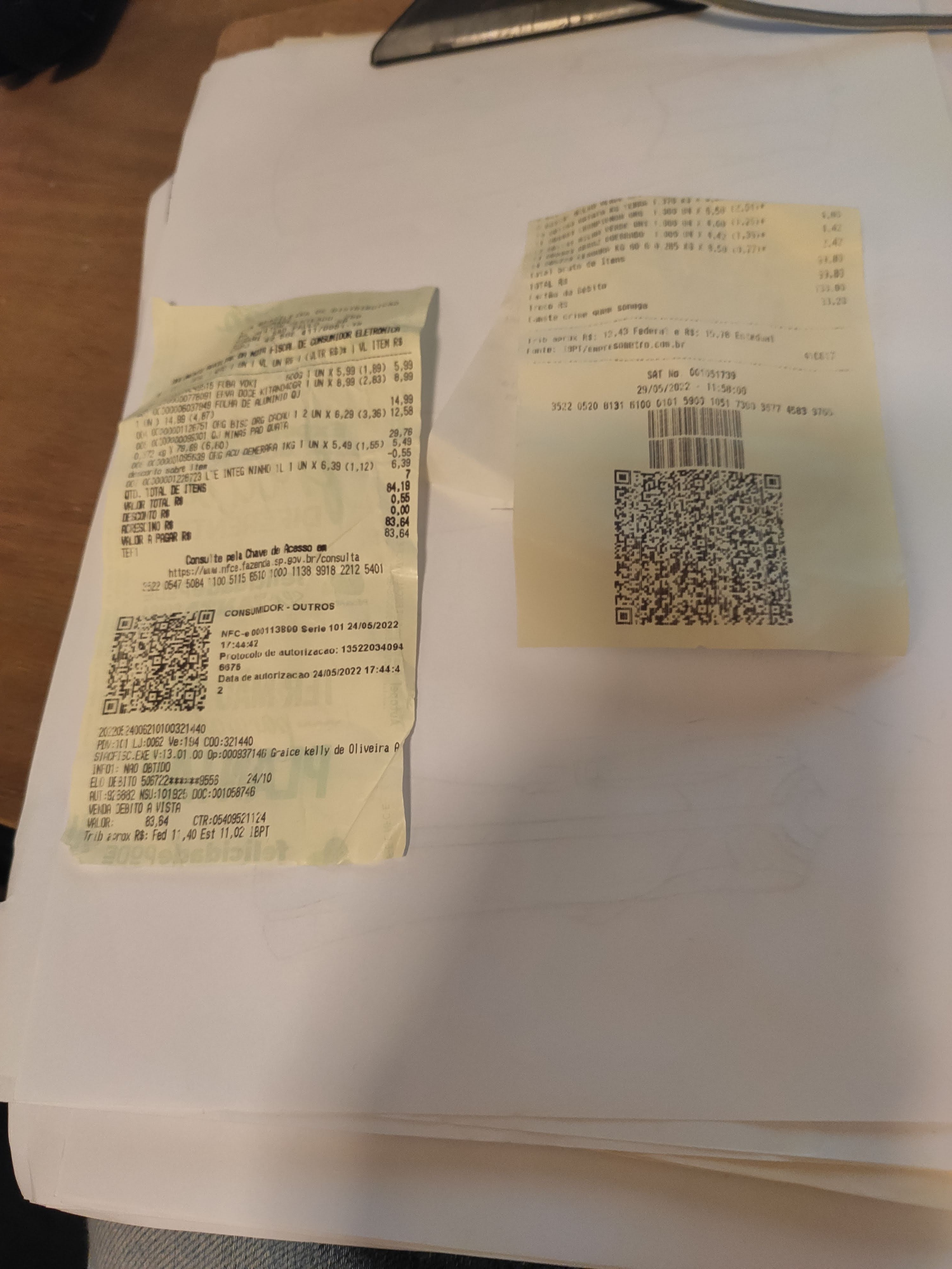QR-CODE: (614, 469, 793, 627), (103, 609, 216, 713)
